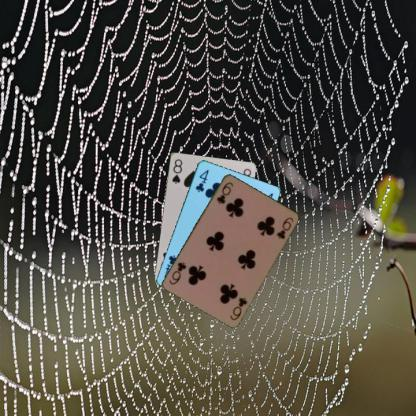4c: (193, 166, 210, 193)
6c: (228, 294, 248, 321), (214, 179, 234, 205)
8s: (169, 156, 183, 185)
